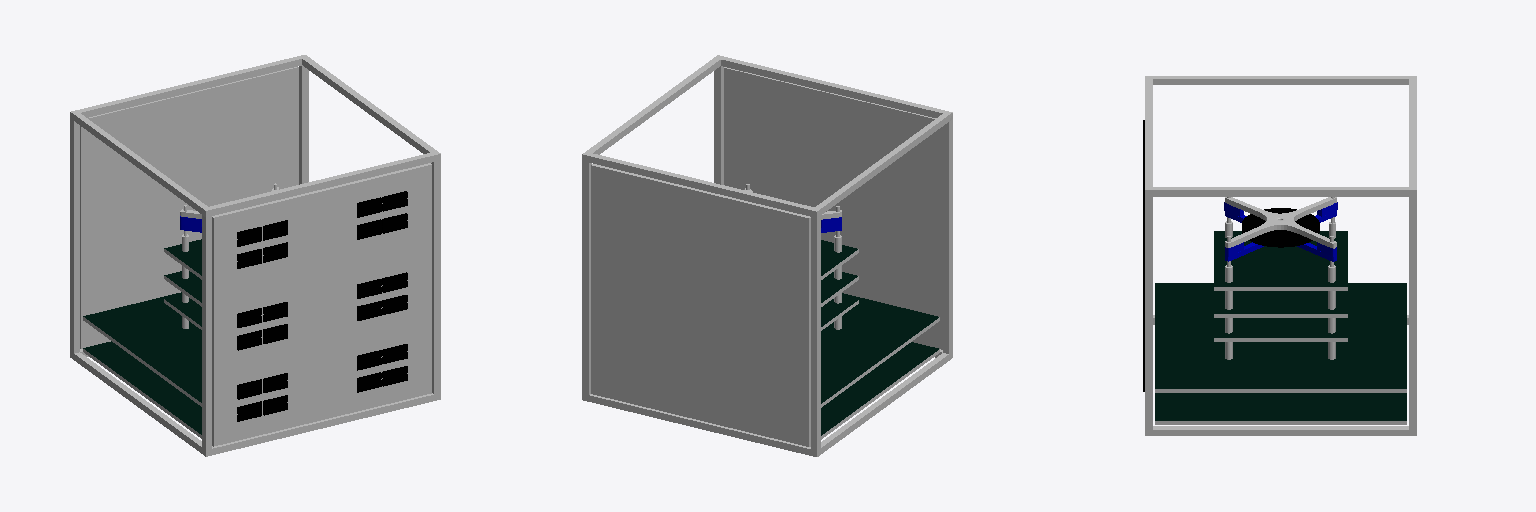
The model's file is EyasSatMockup.obj.
3 views of the same model, side by side, from view 1: azimuth 30°, elevation 25°; view 2: azimuth 150°, elevation 25°; view 3: azimuth 270°, elevation 25° (orthographic).
Visible parts, largest first — view 1: -Y_Plane_Cube.012, +Y_Plane_Cube.078, Cube_Cube.001, Cube.001_Cube.002, Cube.006_Cube.007, Cube.004_Cube.005, Cube.003_Cube.004, Cube.002_Cube.003; view 2: +Y_Plane_Cube.078, -Y_Plane_Cube.012, Cube_Cube.001, Cube.001_Cube.002, Cube.006_Cube.007, Cube.004_Cube.005, Cube.003_Cube.004, Cube.002_Cube.003; view 3: Cube.001_Cube.002, Cube_Cube.001, Cube.006_Cube.007, Cube.004_Cube.005, Cube.003_Cube.004, Cube.002_Cube.003, Cube.009_Cube, Cylinder.010_Cylinder.013, Cube.010_Cube.011, Cube.005_Cube.008, Cylinder.002, Cylinder.001.
Boxes of the visible parts, x1,y1,x2,y2 form: -Y_Plane_Cube.012: [212, 163, 431, 446]; +Y_Plane_Cube.078: [80, 67, 298, 348]; Cube_Cube.001: [70, 55, 440, 456]; Cube.001_Cube.002: [83, 292, 201, 406]; Cube.006_Cube.007: [83, 341, 201, 438]; Cube.004_Cube.005: [164, 239, 201, 279]; Cube.003_Cube.004: [164, 271, 201, 306]; Cube.002_Cube.003: [164, 295, 201, 329]; +Y_Plane_Cube.078: [591, 164, 810, 446]; -Y_Plane_Cube.012: [724, 67, 942, 349]; Cube_Cube.001: [582, 55, 952, 456]; Cube.001_Cube.002: [821, 293, 939, 407]; Cube.006_Cube.007: [821, 342, 939, 439]; Cube.004_Cube.005: [821, 240, 858, 279]; Cube.003_Cube.004: [821, 272, 858, 306]; Cube.002_Cube.003: [821, 296, 858, 330]; Cube.001_Cube.002: [1155, 283, 1406, 392]; Cube_Cube.001: [1145, 76, 1416, 435]; Cube.006_Cube.007: [1155, 393, 1406, 424]; Cube.004_Cube.005: [1214, 231, 1347, 290]; Cube.003_Cube.004: [1214, 291, 1347, 317]; Cube.002_Cube.003: [1214, 318, 1347, 341]; Cube.009_Cube: [1225, 197, 1336, 248]; Cylinder.010_Cylinder.013: [1242, 208, 1319, 247]; Cube.010_Cube.011: [1225, 211, 1336, 261]; Cube.005_Cube.008: [1224, 202, 1337, 256]; Cylinder.002: [1225, 265, 1232, 359]; Cylinder.001: [1328, 265, 1335, 359].
Bounding box in the file's own units: 3.7 × 3.7 × 3.72.